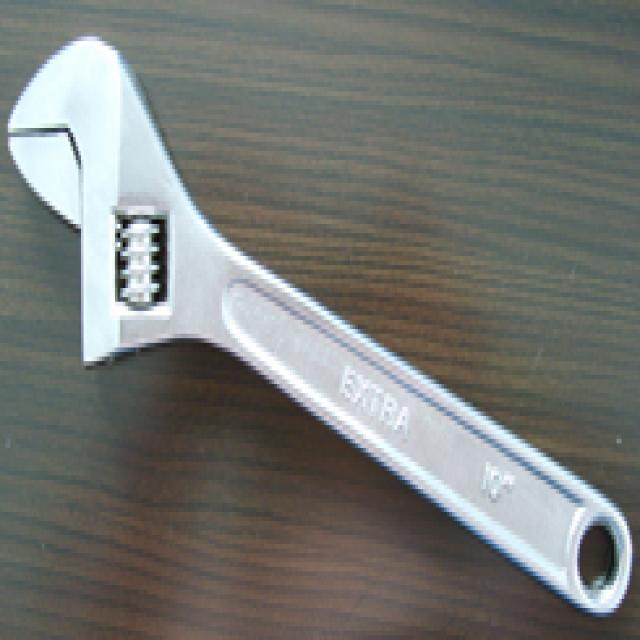wrench: (0, 12, 573, 534)
